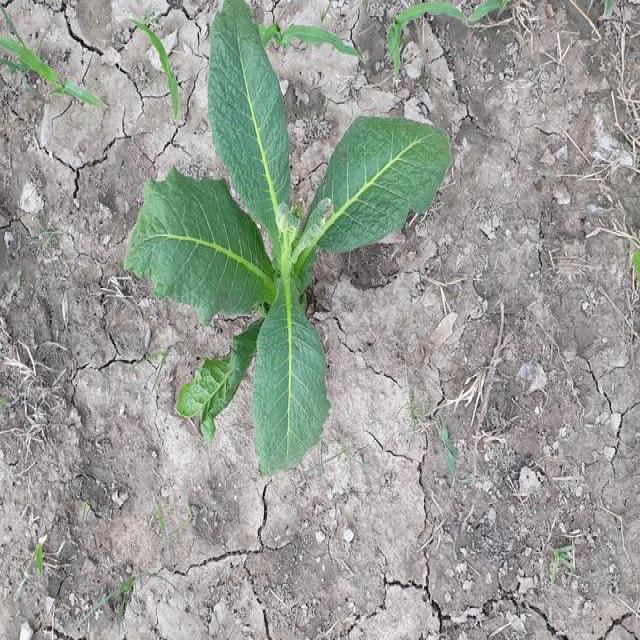crop: (134, 7, 438, 469)
